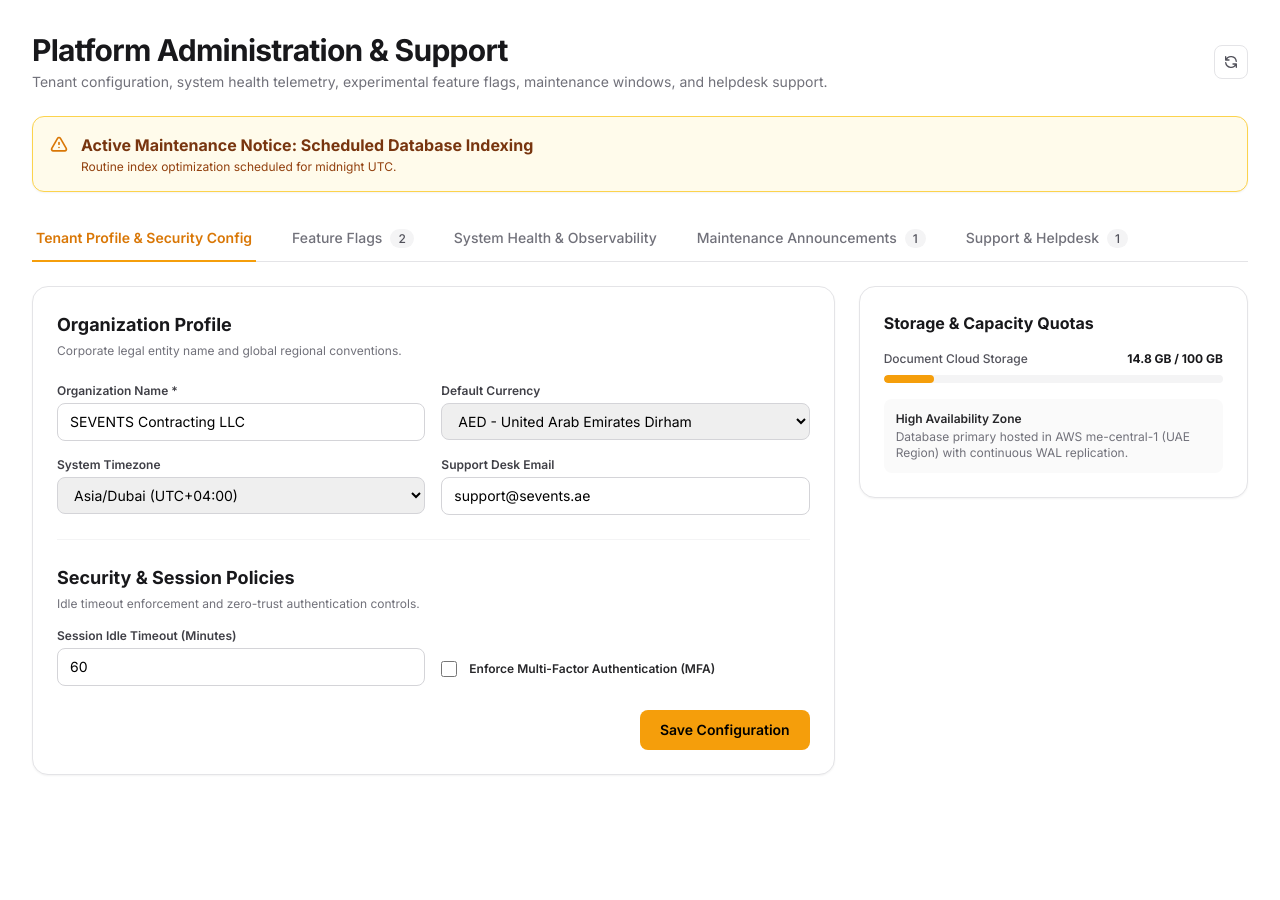
PlatformAdminPage (M36: Platform Administration & Support) › switches to Feature Flags tab and toggles a flag
Expected: the heading "Platform Administration & Support" is shown, x1=32 y1=32 x2=508 y2=68
Click the button "Feature Flags2" at (353, 239), box x1=288 y1=216 x2=418 y2=262
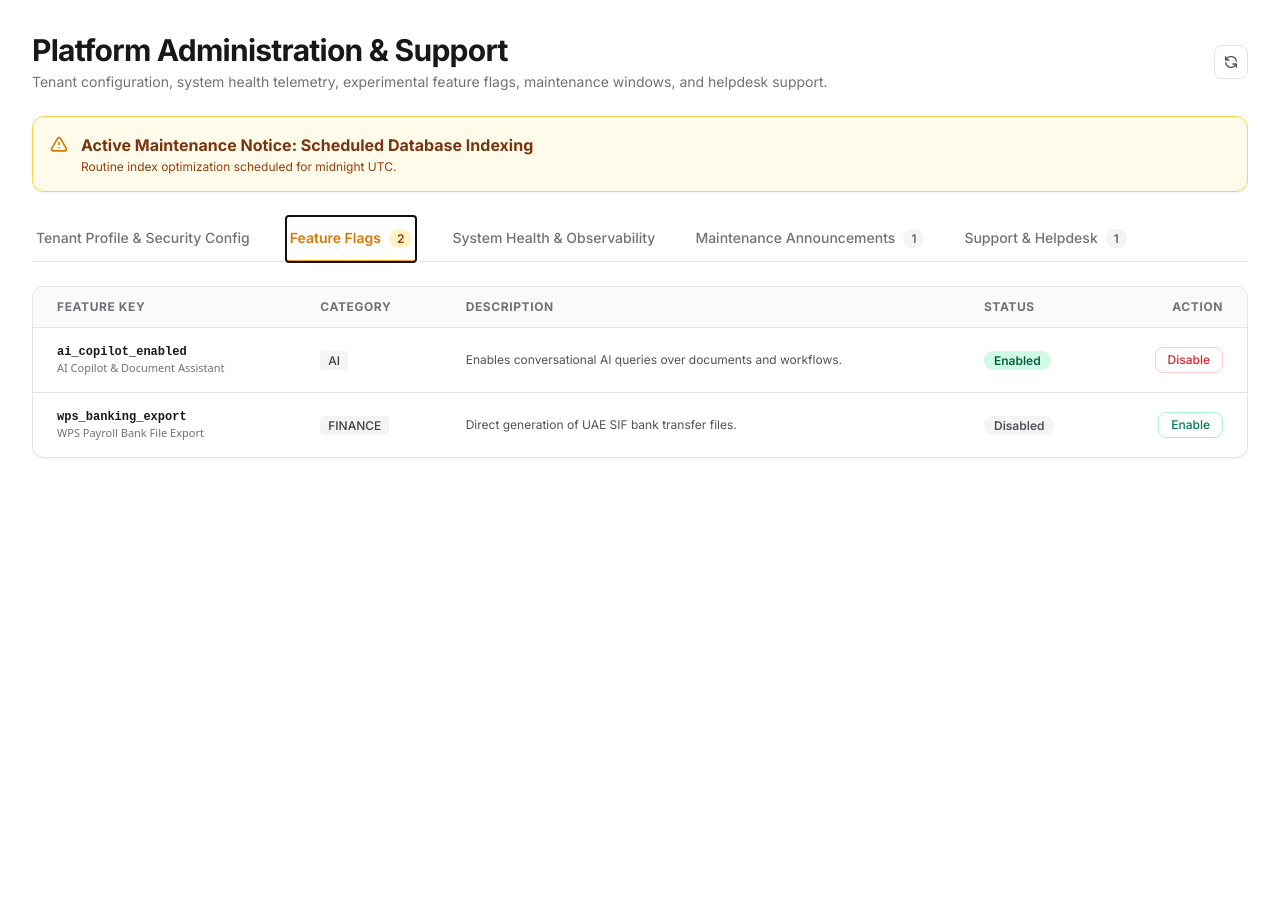
Now the text "ai_copilot_enabled" is shown, box x1=57 y1=345 x2=187 y2=359
Now the text "wps_banking_export" is shown, box x1=57 y1=410 x2=187 y2=424
Click the button "Enable" at (1191, 425), box x1=1158 y1=412 x2=1223 y2=438
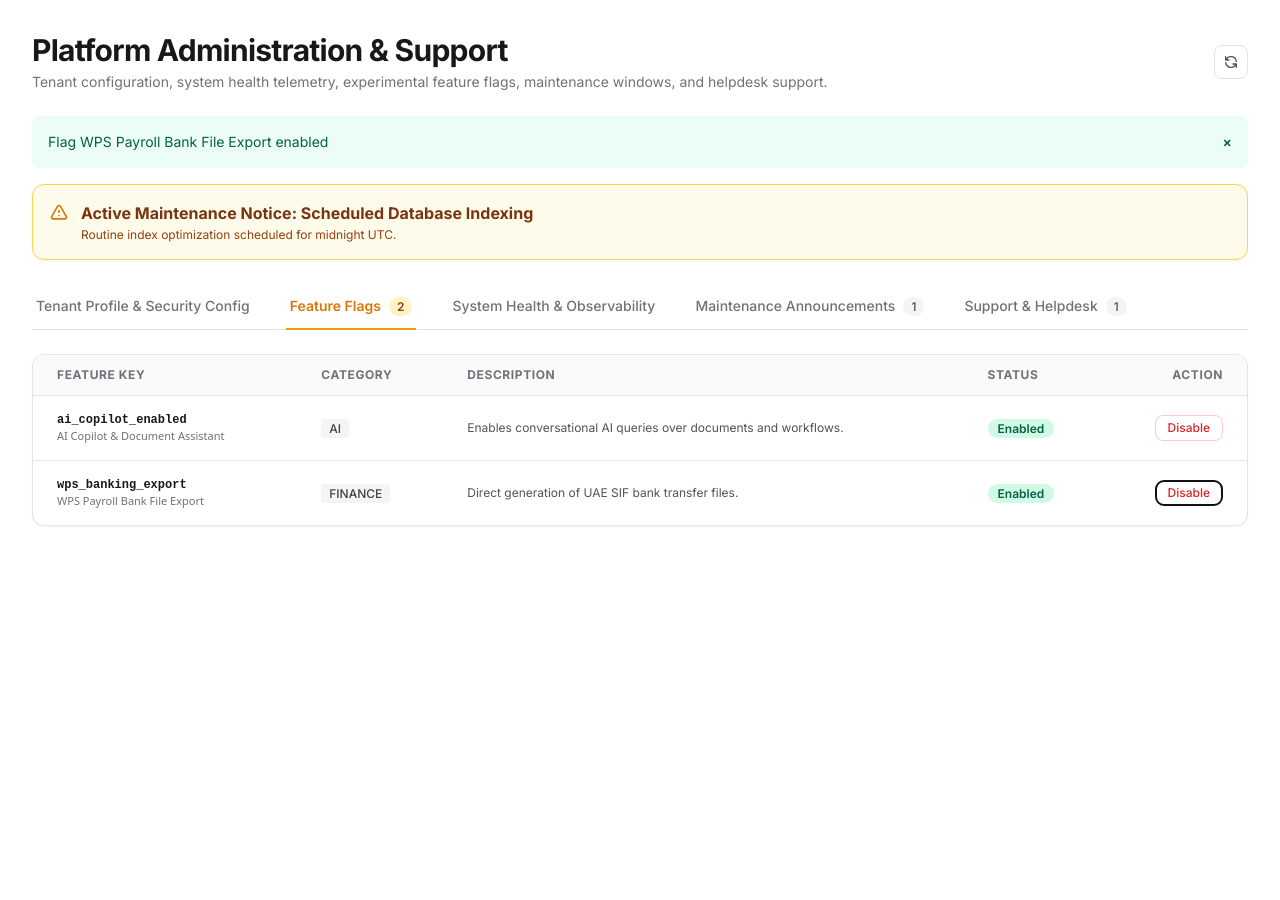
Now the text "Flag WPS Payroll Bank File Export enabled" is shown, box x1=48 y1=132 x2=328 y2=152
